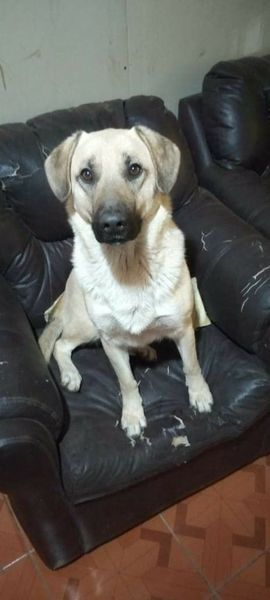dog: (25, 118, 232, 444)
